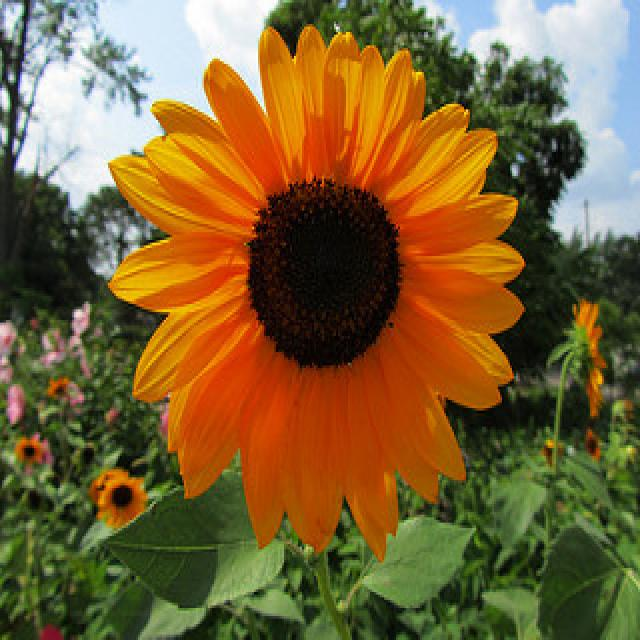sunflower: (105, 22, 529, 566), (560, 295, 606, 425), (99, 469, 147, 531)
